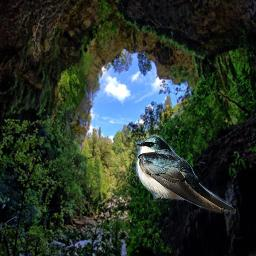Swallow: (135, 135, 236, 214)
